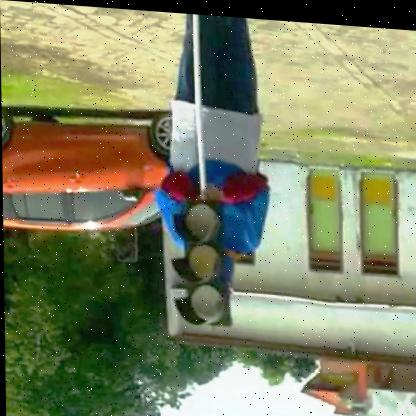Traffic Light -Yellow-: (172, 196, 230, 323)
